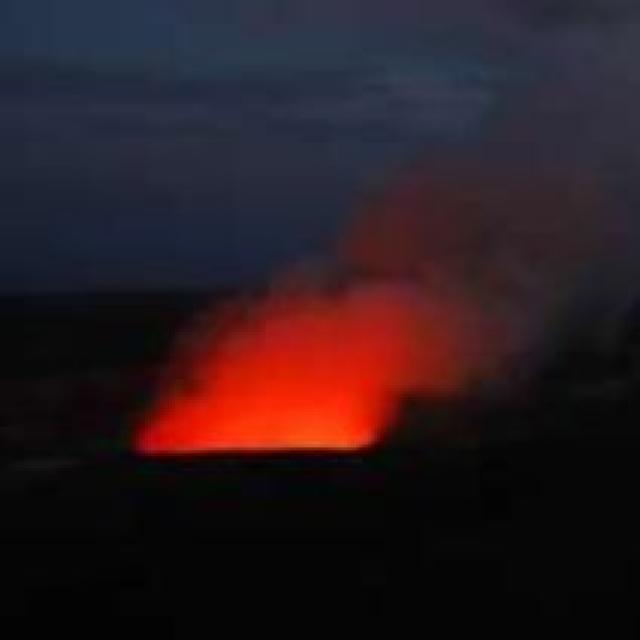Smoke: (382, 84, 639, 317)
